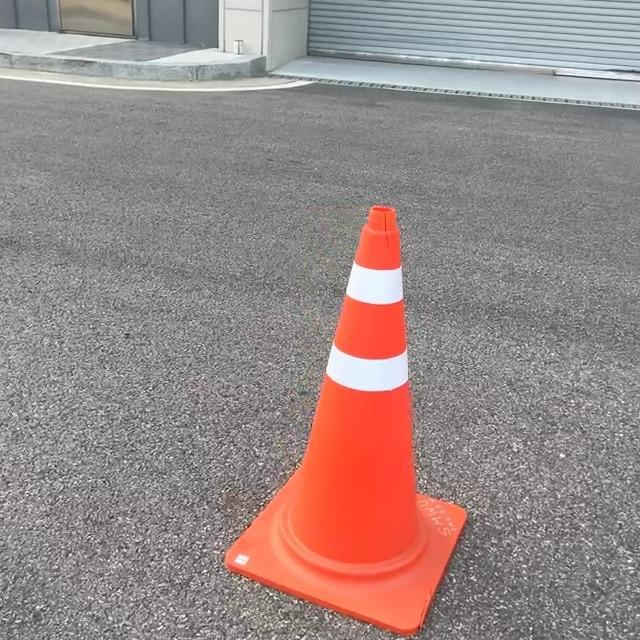fallen_object: (110, 120, 640, 640)
